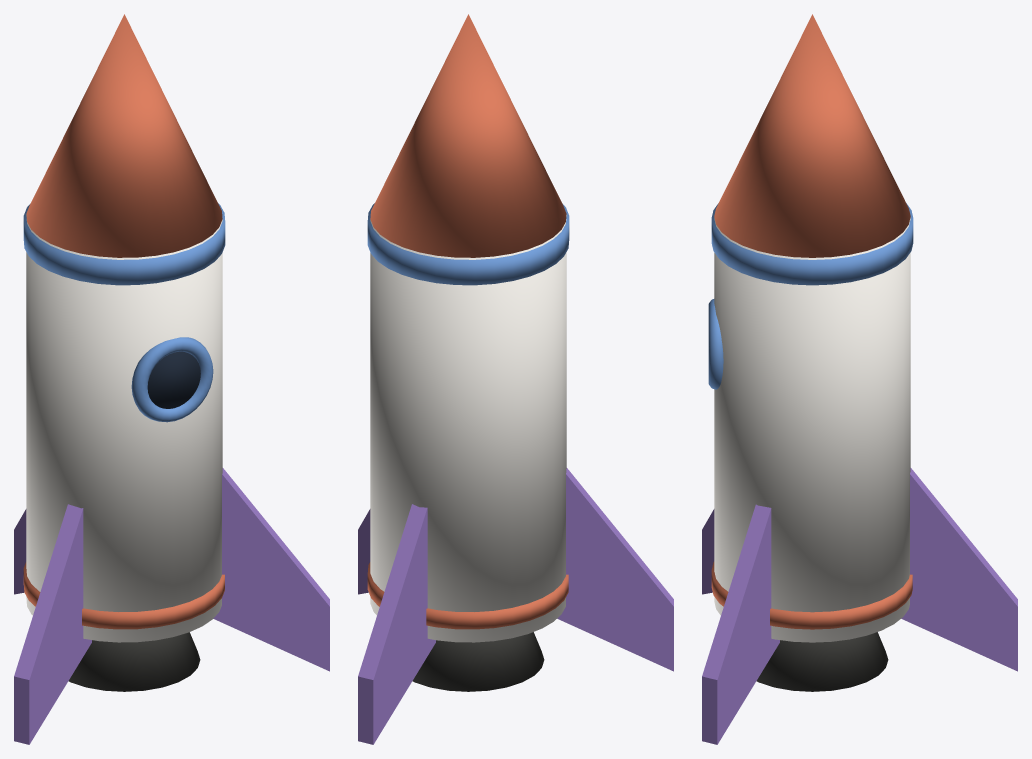
The model's file is rakete.glb.
The picture shows the model from 3 angles, left to right: view 1: azimuth 30°, elevation 25°; view 2: azimuth 150°, elevation 25°; view 3: azimuth 270°, elevation 25°; orthographic projection.
Parts seen in each view (by area): view 1: Rumpf, Spitze, Flosse 3, Flosse 2, Düse, Band, Fensterrahmen, Ring, Fenster, Flosse 1; view 2: Rumpf, Spitze, Flosse 2, Flosse 1, Düse, Band, Ring, Flosse 3; view 3: Rumpf, Spitze, Flosse 1, Flosse 3, Düse, Band, Ring, Fensterrahmen, Flosse 2.
Boxes of the visible parts, x1,y1,x2,y2 form: Rumpf: [26, 215, 222, 642]; Spitze: [26, 14, 222, 257]; Flosse 3: [213, 468, 329, 671]; Flosse 2: [14, 504, 91, 744]; Düse: [68, 632, 200, 691]; Band: [23, 203, 225, 285]; Fensterrahmen: [131, 337, 213, 422]; Ring: [23, 562, 224, 629]; Fenster: [147, 351, 200, 408]; Flosse 1: [14, 509, 26, 594]; Rumpf: [370, 215, 566, 642]; Spitze: [370, 14, 566, 257]; Flosse 2: [557, 468, 673, 671]; Flosse 1: [358, 504, 435, 744]; Düse: [412, 632, 544, 691]; Band: [367, 203, 569, 285]; Ring: [367, 562, 568, 629]; Flosse 3: [358, 509, 370, 594]; Rumpf: [714, 218, 910, 642]; Spitze: [714, 14, 910, 257]; Flosse 1: [901, 468, 1017, 671]; Flosse 3: [702, 504, 779, 744]; Düse: [756, 632, 888, 691]; Band: [711, 203, 913, 285]; Ring: [711, 561, 912, 629]; Fensterrahmen: [708, 299, 723, 389]; Flosse 2: [702, 509, 714, 594].
Bounding box in the file's own units: 0.8167 × 1.62 × 0.7073.
